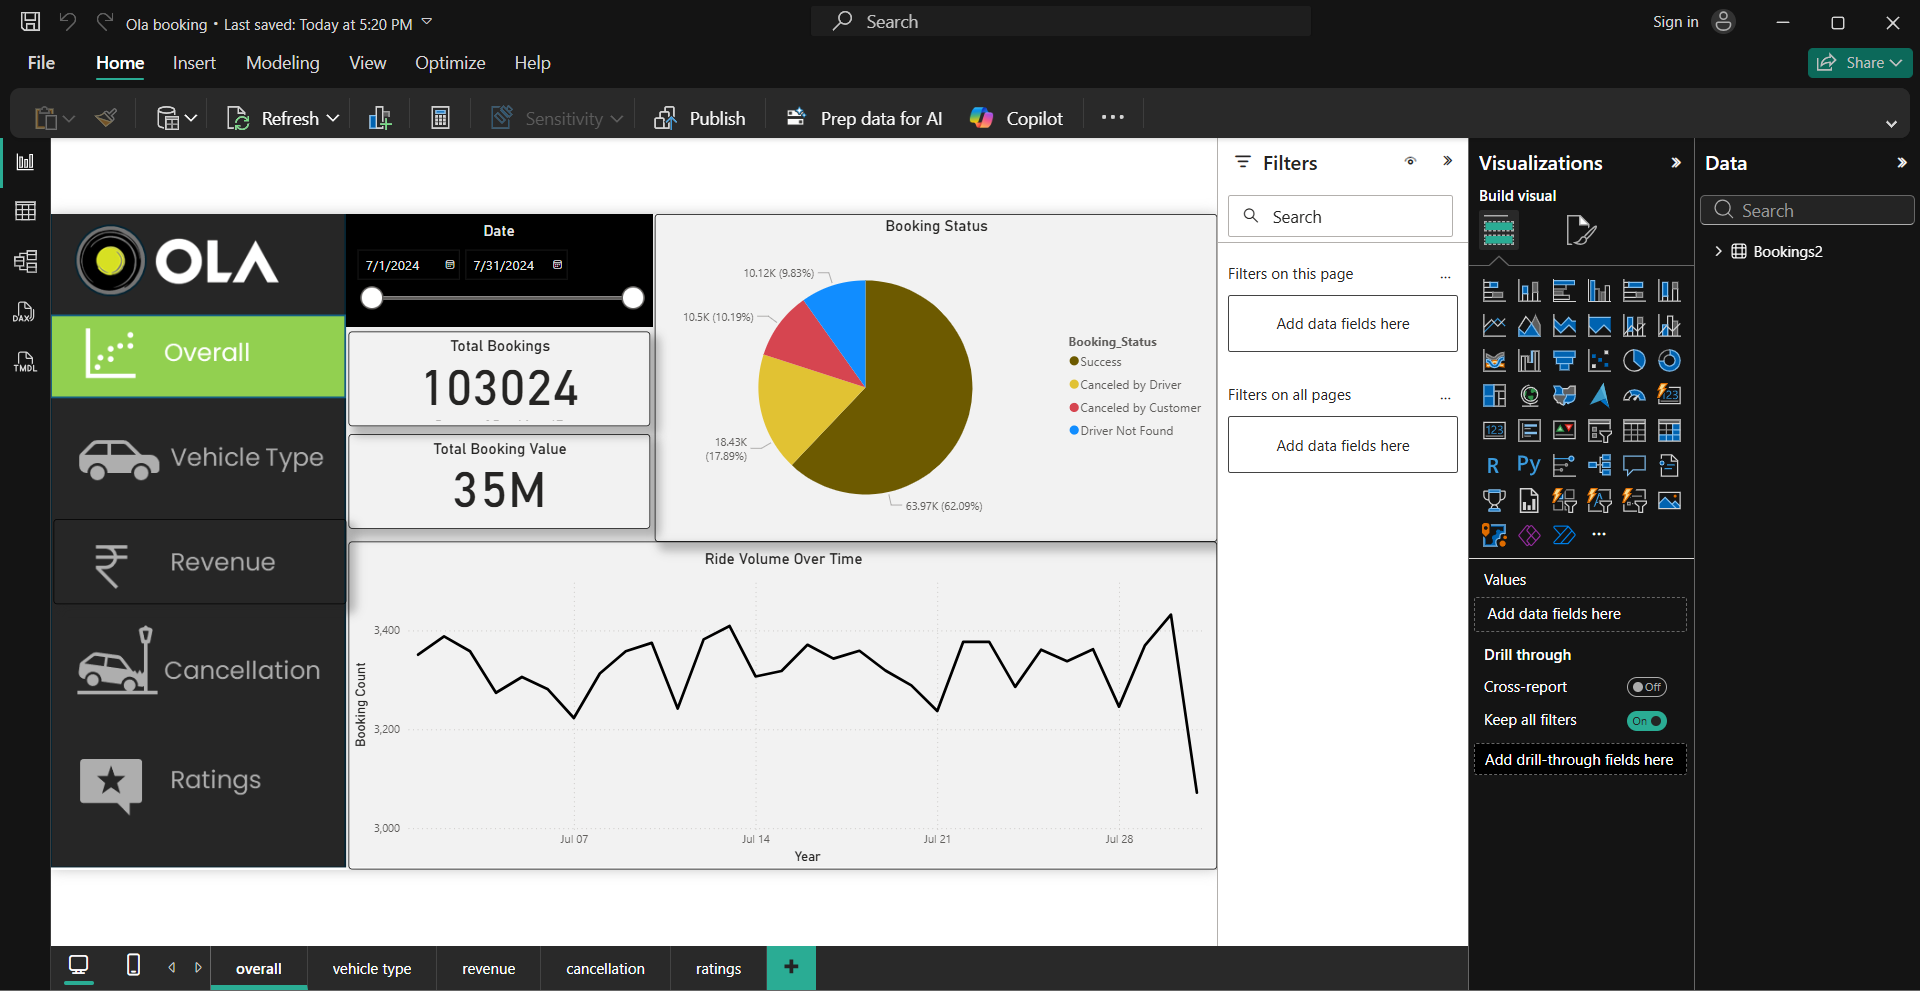

The page's visual inventory and layout, read from the dashboard file:
{"tool":"powerbi","page":{"name":"overall","canvas":[1280,720],"ordinal":0},"visuals":[{"type":"actionButton","box":[0,576.7,326.4,92],"z":0},{"type":"actionButton","box":[0,108,321.5,93.3],"z":1000},{"type":"actionButton","box":[5,96.2,321.2,93.8],"z":2000},{"type":"actionButton","box":[2.5,335,321.2,93.8],"z":3000},{"type":"actionButton","box":[2.5,581.2,318.8,85],"z":4000},{"type":"actionButton","box":[2.5,115,318.8,86.2],"z":5000},{"type":"lineChart","title":"Ride Volume Over Time","fields":{"Y":["CountNonNull(Bookings2.Booking_ID)"],"Category":["Bookings2.Date.Variation.Date Hierarchy.Year","Bookings2.Date.Variation.Date Hierarchy.Quarter","Bookings2.Date.Variation.Date Hierarchy.Month","Bookings2.Date.Variation.Date Hierarchy.Day"]},"box":[326.2,360,953.8,360],"z":6000},{"type":"pieChart","title":"Booking Status","fields":{"Category":["Bookings2.Booking_Status"],"Y":["CountNonNull(Bookings2.Booking_ID)"]},"box":[662.5,0,617.5,360],"z":7000},{"type":"slicer","title":"Date","fields":{"Values":["Bookings2.Date"]},"box":[323.8,0,336.2,123.8],"z":8000},{"type":"card","title":"Total Bookings","fields":{"Values":["Count(Bookings2.Booking_ID)"]},"box":[326.2,128.8,331.2,103.8],"z":9000},{"type":"card","title":"Total Booking Value","fields":{"Values":["Sum(Bookings2.Booking_Value)"]},"box":[326.2,241.2,331.2,103.8],"z":10000}]}

Visuals, with their boxes on the page's 1280x720 design canvas (x1, y1, x2, y2). These are canvas units, not pixel positions in the 1920x991 screenshot, which may show the page scaled, cropped or inside an application window:
actionButton: Rect(0, 577, 326, 669)
actionButton: Rect(0, 108, 322, 201)
actionButton: Rect(5, 96, 326, 190)
actionButton: Rect(2, 335, 324, 429)
actionButton: Rect(2, 581, 321, 666)
actionButton: Rect(2, 115, 321, 201)
"Ride Volume Over Time" lineChart: Rect(326, 360, 1280, 720)
"Booking Status" pieChart: Rect(662, 0, 1280, 360)
"Date" slicer: Rect(324, 0, 660, 124)
"Total Bookings" card: Rect(326, 129, 657, 233)
"Total Booking Value" card: Rect(326, 241, 657, 345)
